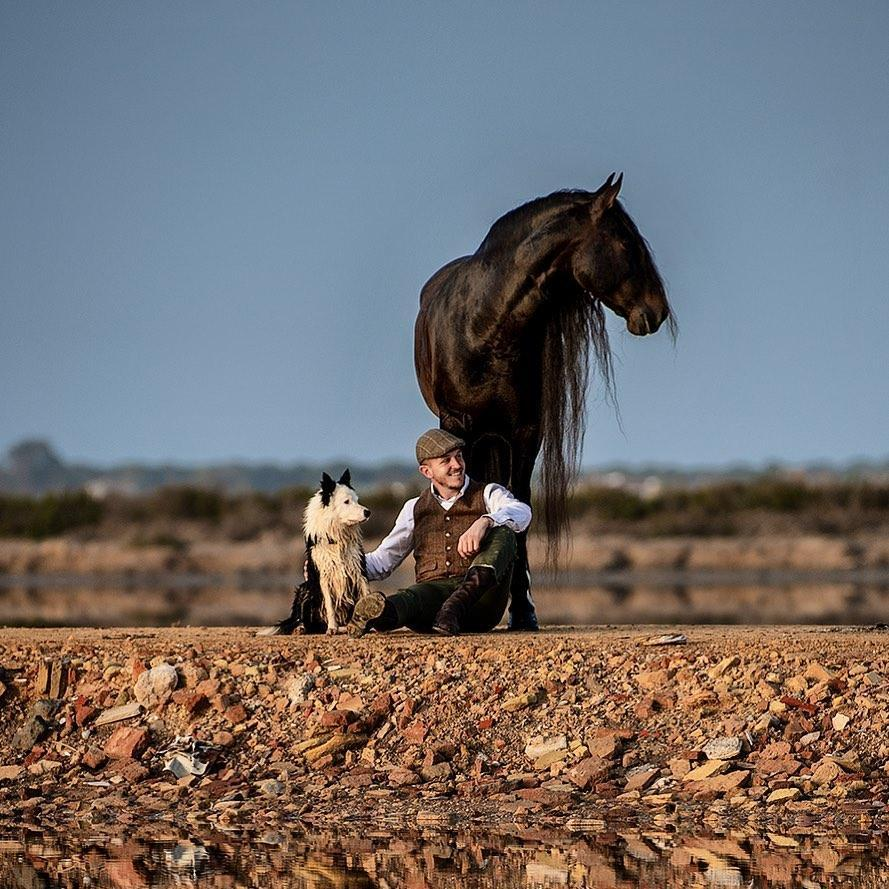horse: (412, 169, 678, 631), (266, 466, 373, 635)
